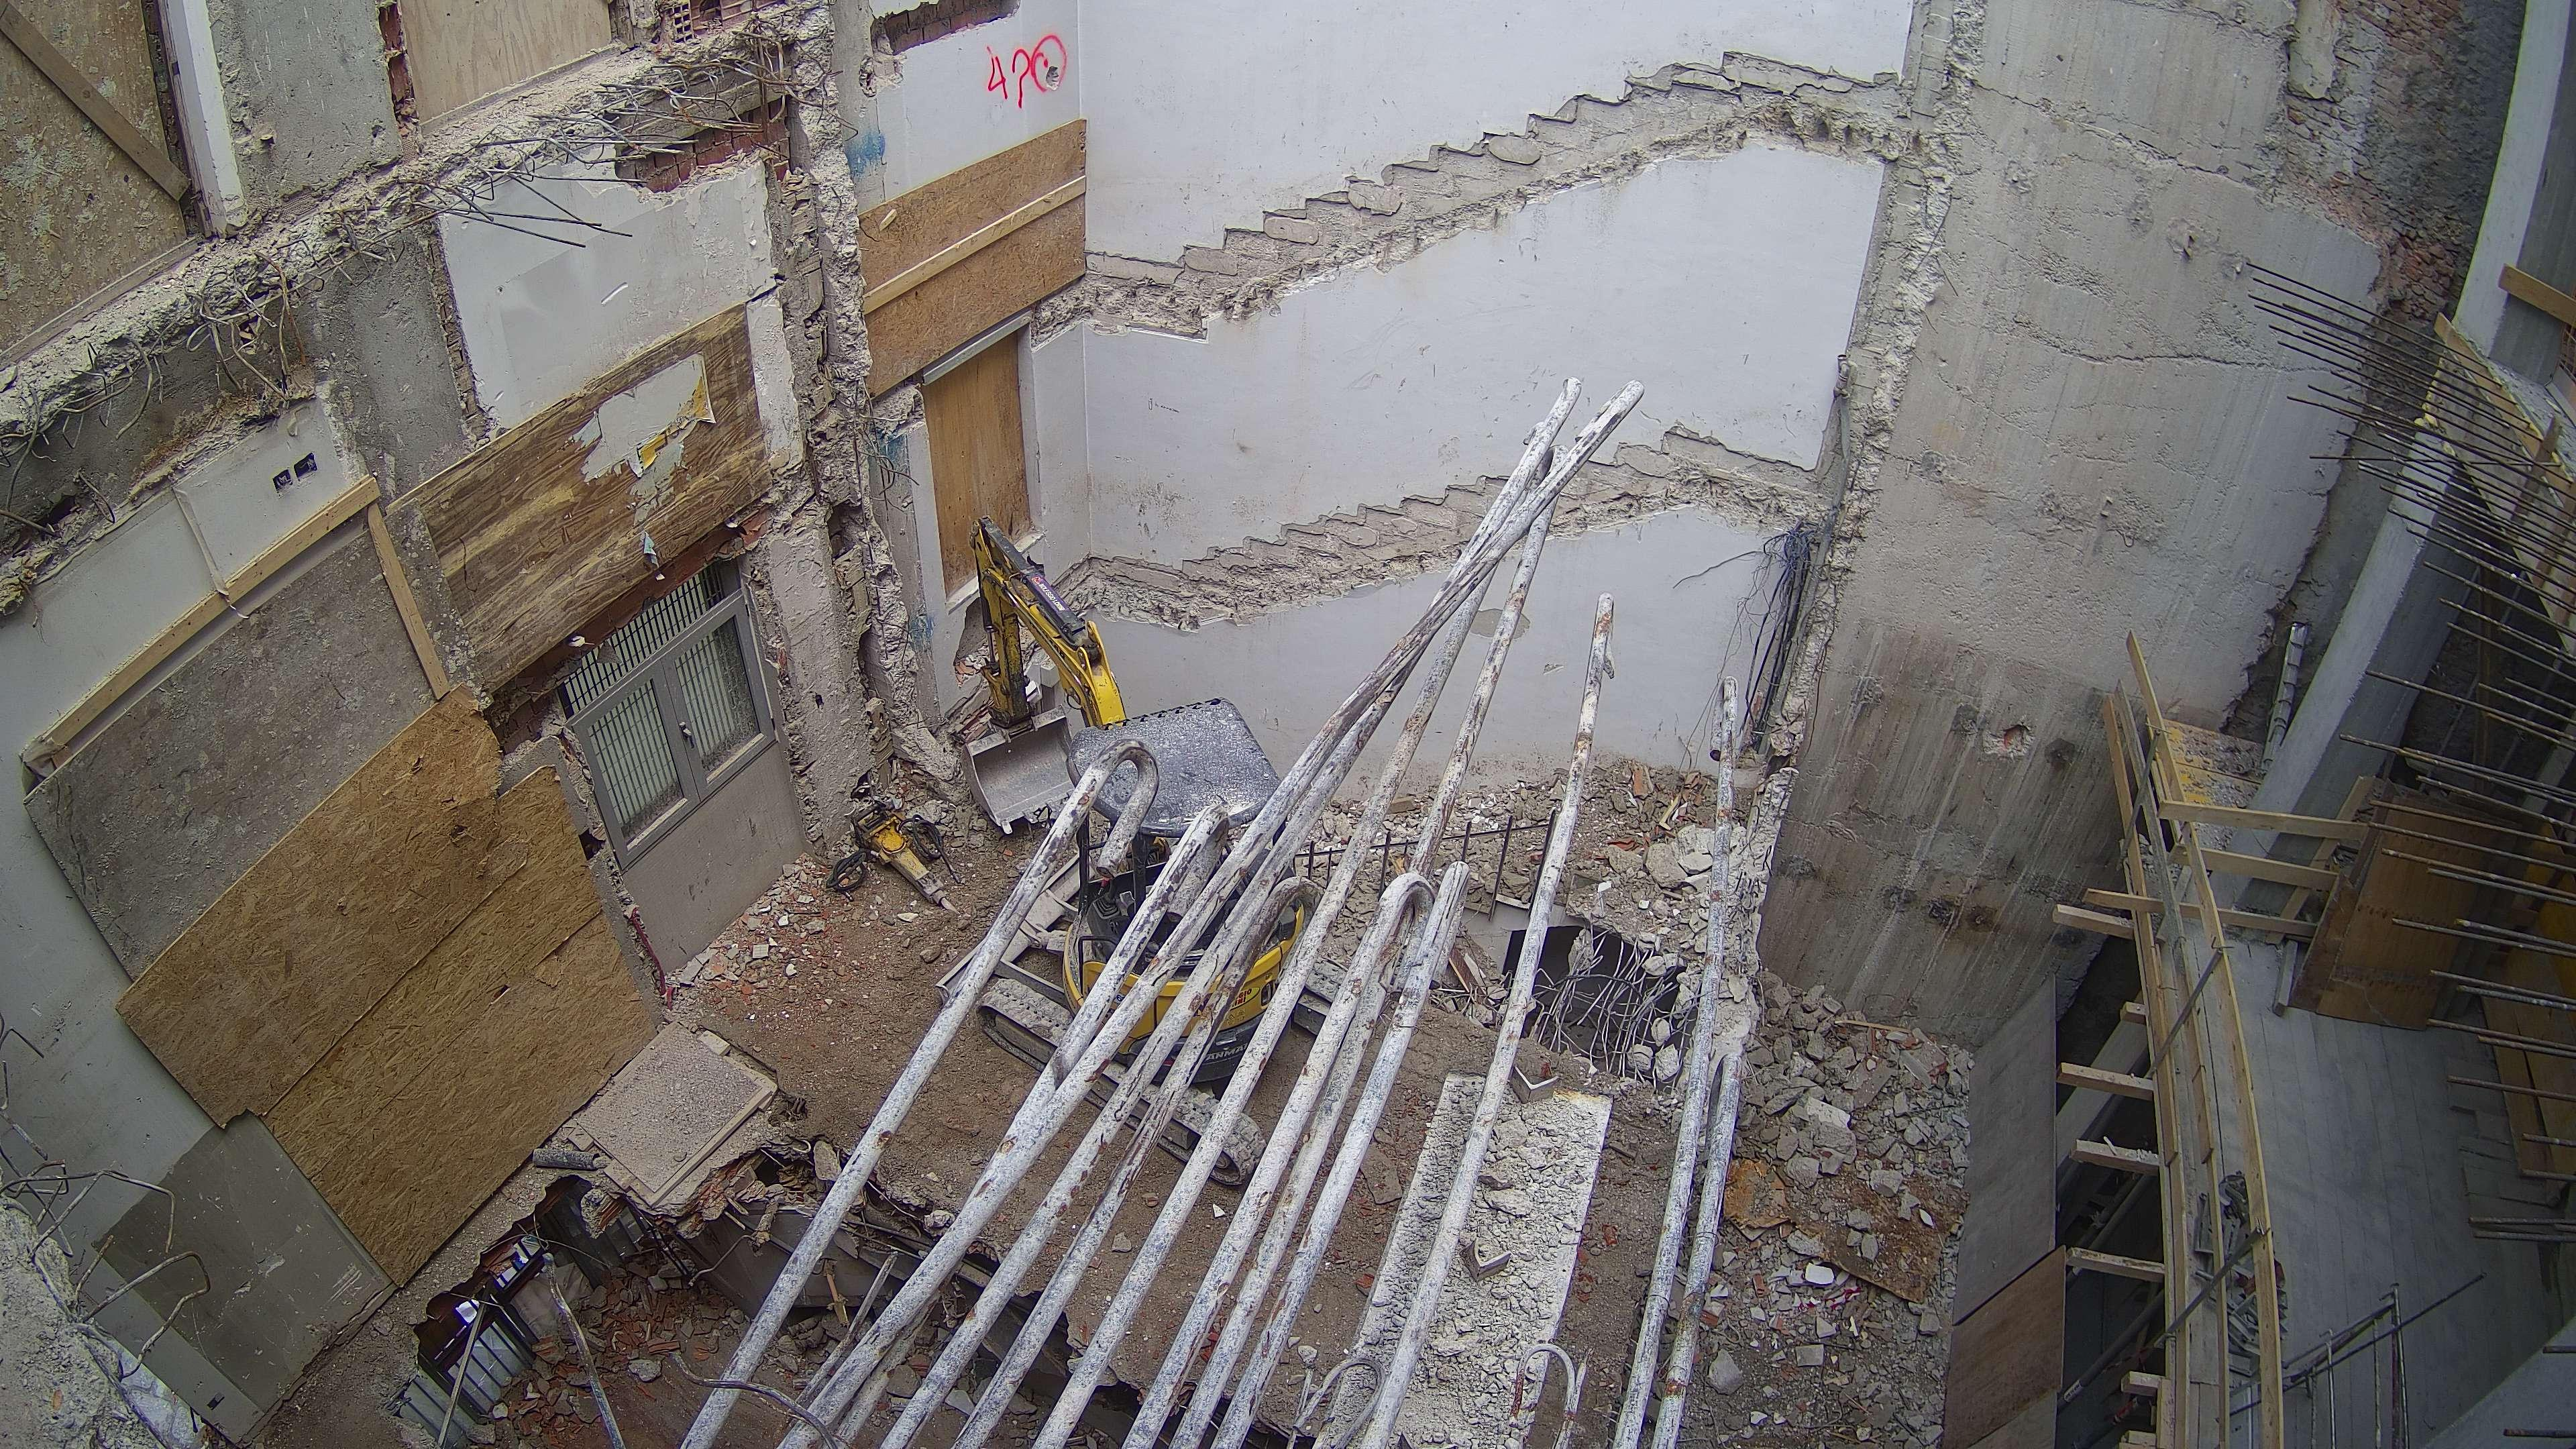excavator: (938, 515, 1343, 1187)
